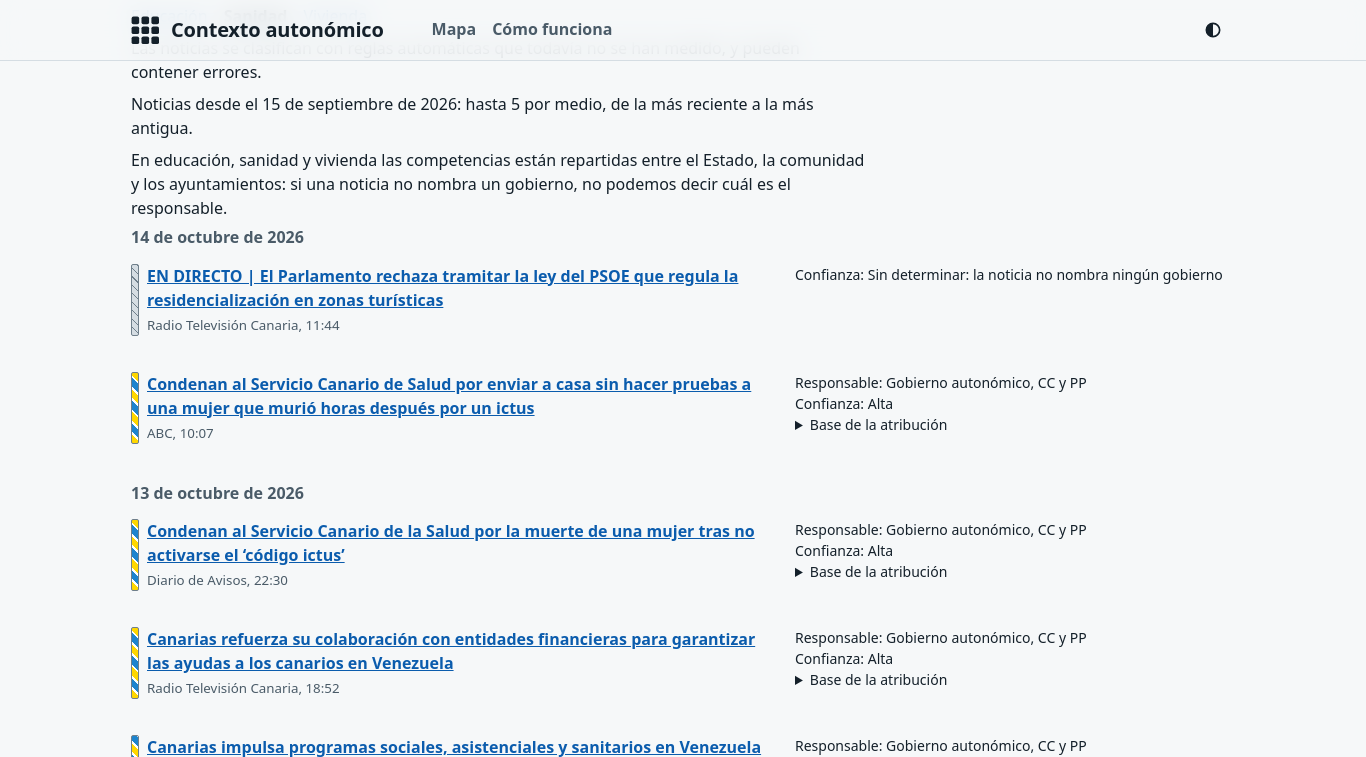
Test: news of a community › offers the legal basis of an attribution, with its sources
(page scrolled)
Click the heading "Base de la atribución" in the row of "ABC, 10:07".
click(879, 424)  # box [810,415,947,434]
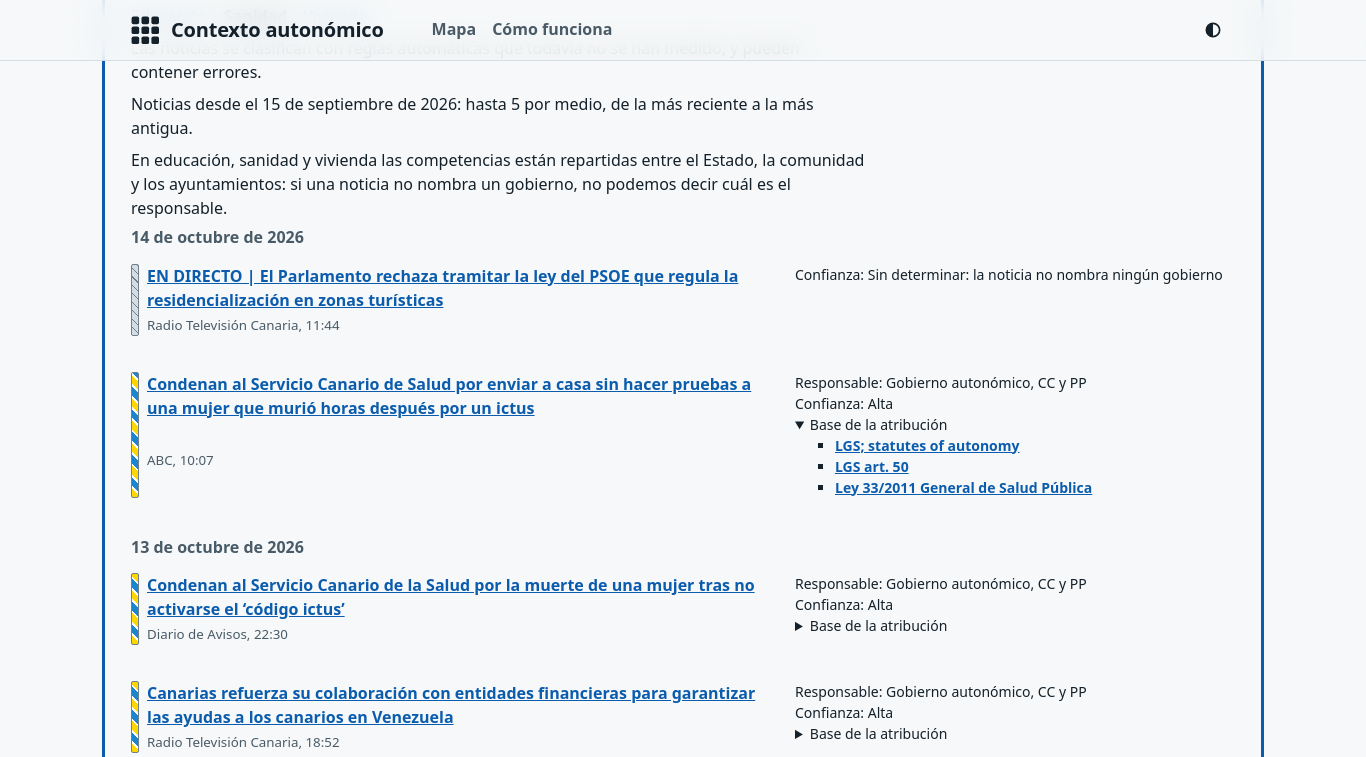
Check: the link "LGS; statutes of autonomy" is shown, box [835,436,1020,455]
